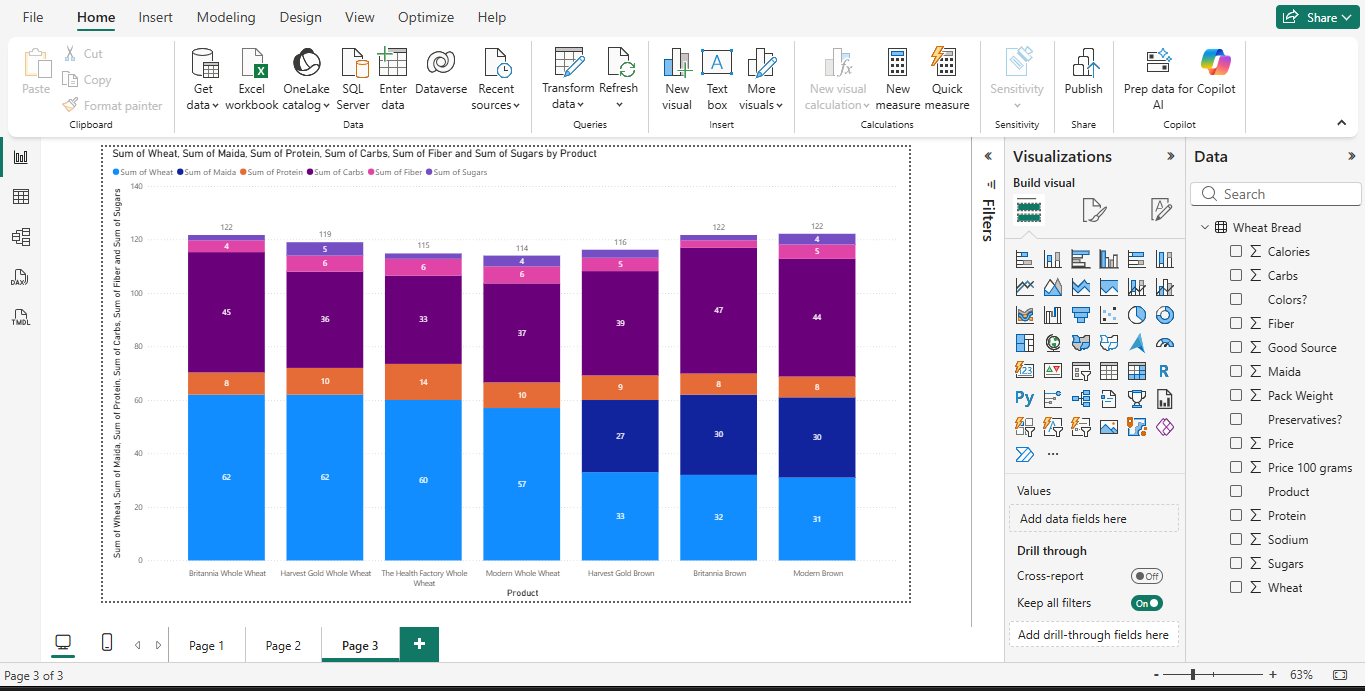

This screenshot's page, from the dashboard's own definition file:
{"tool":"powerbi","page":{"name":"Page 3","canvas":[1280,720],"ordinal":2},"visuals":[{"type":"columnChart","fields":{"Category":["Wheat Bread.Product"],"Y":["Sum(Wheat Bread.Wheat)","Sum(Wheat Bread.Maida)","Sum(Wheat Bread.Protein)","Sum(Wheat Bread.Carbs)","Sum(Wheat Bread.Fiber)","Sum(Wheat Bread.Sugars)"]},"box":[10.1,0,1255.2,360.7],"z":0}]}

Visuals, with their boxes on the page's 1280x720 design canvas (x1, y1, x2, y2). These are canvas units, not pixel positions in the 1365x691 screenshot, which may show the page scaled, cropped or inside an application window:
columnChart - Wheat Bread.Product x Sum(Wheat Bread.Wheat): [x1=10, y1=0, x2=1265, y2=361]
